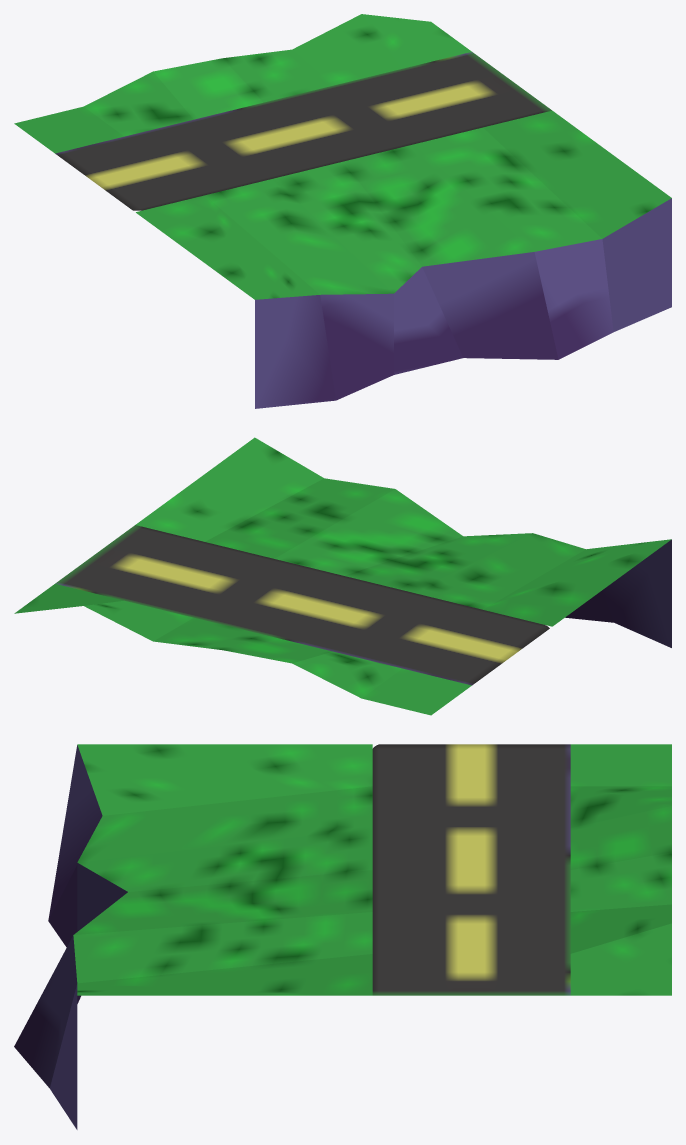
The model's file is Suelo4.fbx.
3 views of the same model, one above another, from view 1: azimuth 30°, elevation 25°; view 2: azimuth 150°, elevation 25°; view 3: azimuth 270°, elevation 25° (orthographic). The views are drawn at different scales.
Parts seen in each view (by area): view 1: Cube; view 2: Cube; view 3: Cube.
Boxes of the visible parts, bbox=[...] form: Cube: bbox=[14, 14, 671, 408]; Cube: bbox=[14, 437, 671, 715]; Cube: bbox=[14, 744, 671, 1129].
Bounding box in the file's own units: 8000 × 8851 × 2453.
Materials: 1 (1 with a texture image).
